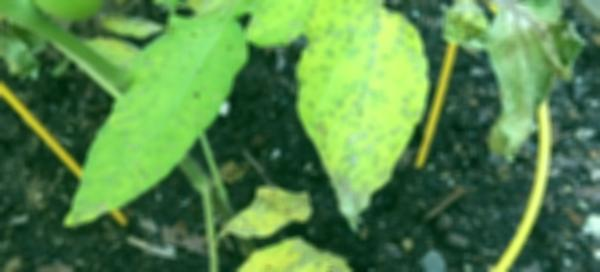Tomato Septoria leaf spot: (61, 9, 252, 231), (286, 8, 431, 242)
